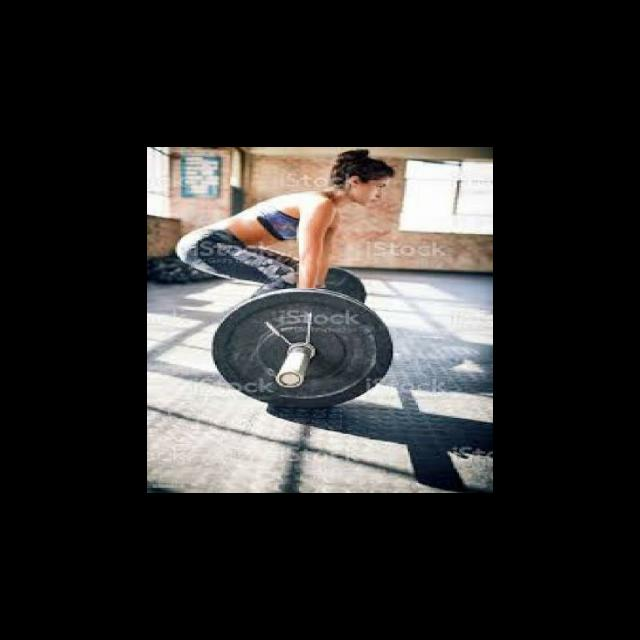barbell: (198, 282, 403, 420)
